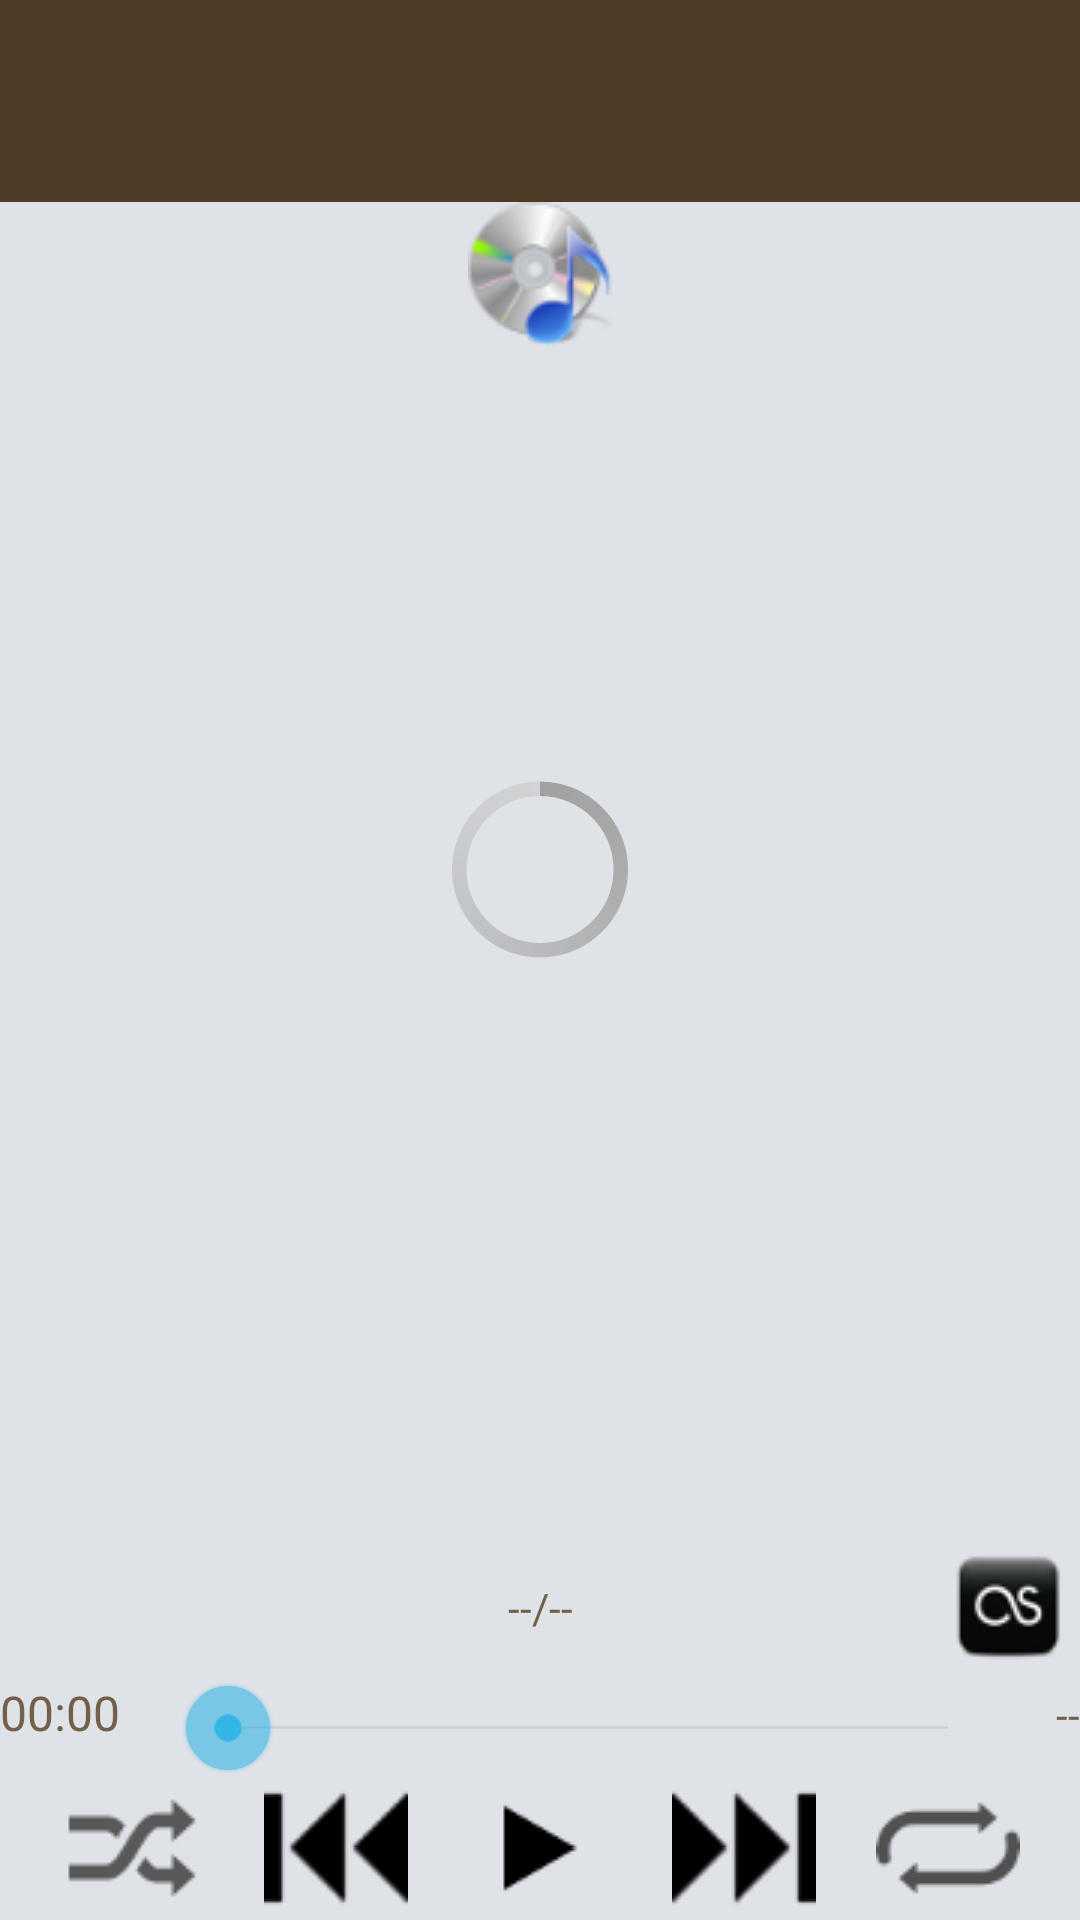

Where icons sit on this 1080px x 1920px app screen, as (x1, y1, x2, y2):
loop off: (876, 1802, 1020, 1894)
next: (672, 1792, 816, 1904)
play: (503, 1805, 577, 1891)
play music on: (468, 208, 610, 344)
previous: (264, 1792, 408, 1904)
shuffle off: (68, 1800, 196, 1896)
